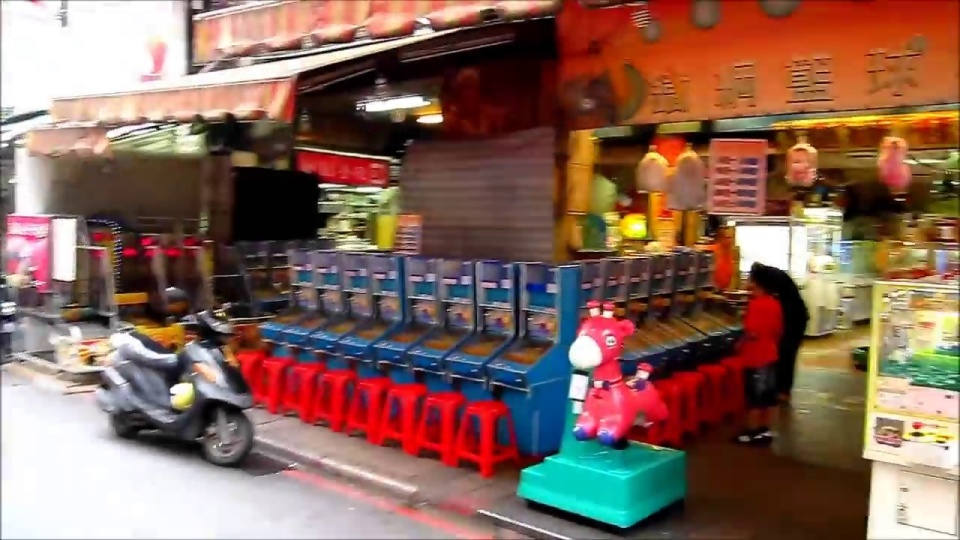person_head: (747, 276, 773, 300), (748, 262, 771, 282), (720, 229, 734, 246)
person_vbox: (745, 260, 812, 406), (735, 275, 786, 445), (709, 226, 739, 289)
